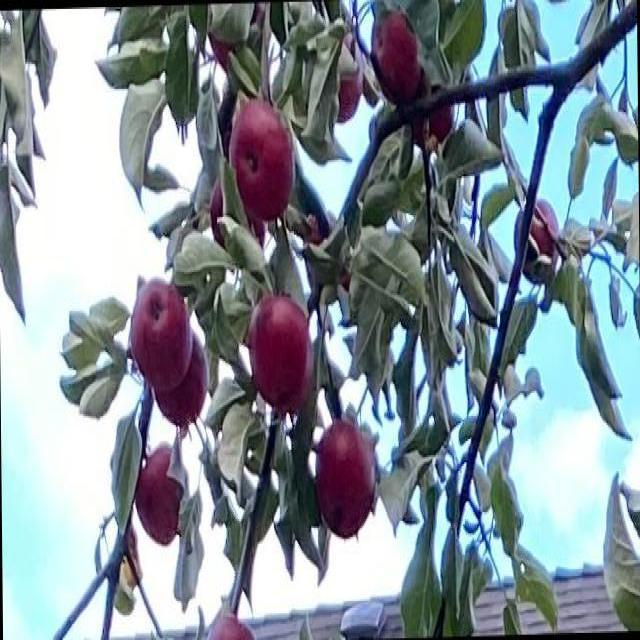Apple: (231, 100, 296, 218), (314, 420, 376, 536), (249, 294, 311, 406), (133, 280, 190, 385), (136, 439, 186, 548), (370, 8, 421, 102), (155, 338, 207, 423), (513, 196, 561, 284), (330, 36, 362, 122)
